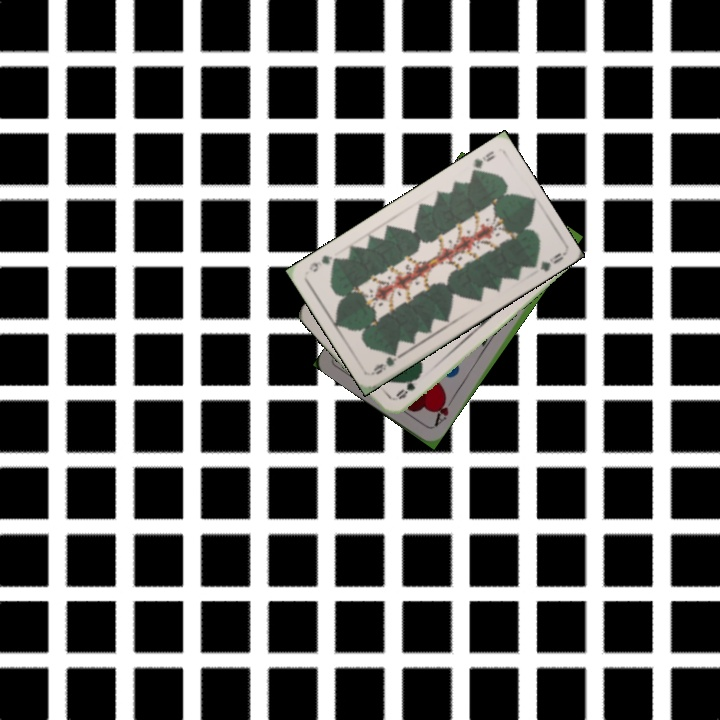G9: (368, 347, 405, 377), (466, 146, 498, 179)
GO: (392, 370, 423, 402)
HA: (429, 393, 456, 430)
